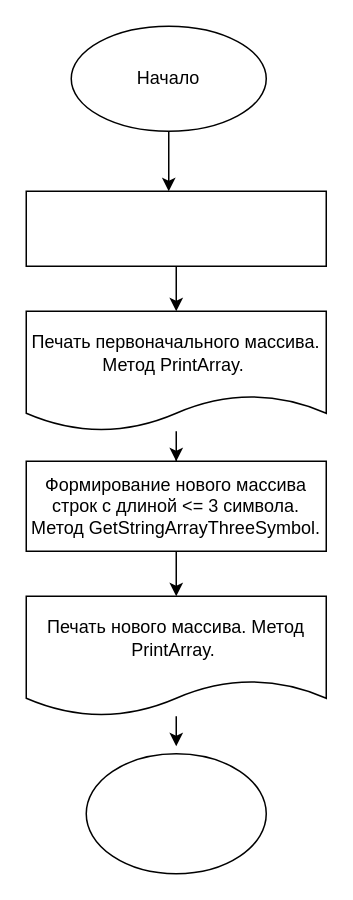
This 353x900 diagram has some shape labels left out. The shapes that lost their labels are listed below. From the top down, each one's centre as x and y in pixels, then its label:
point 175,228: Ввод массива строк с клавиатуры (разделитель ПРОБЕЛ). Метод GetStringArray.
point 175,813: Конец
